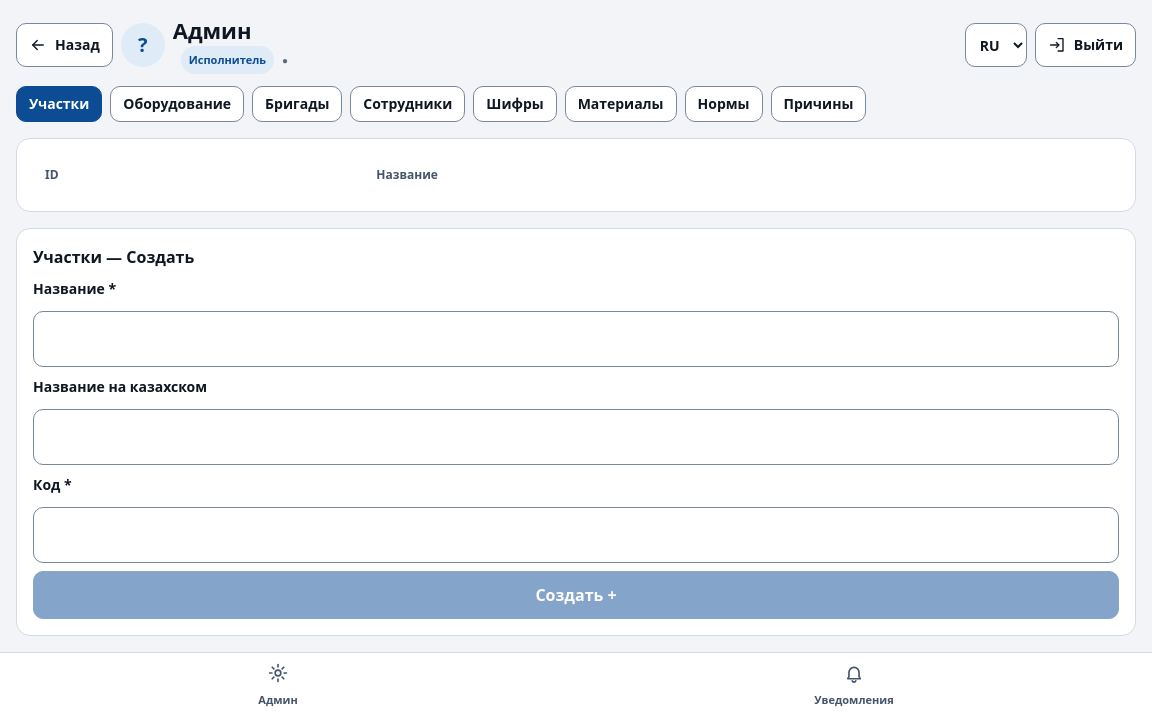
AdminPage edit modal › opens with current values
Expected: the button "Участки" is shown, [16,86,102,122]
Click the button "Сотрудники" at (408, 104), box [350,86,465,122]
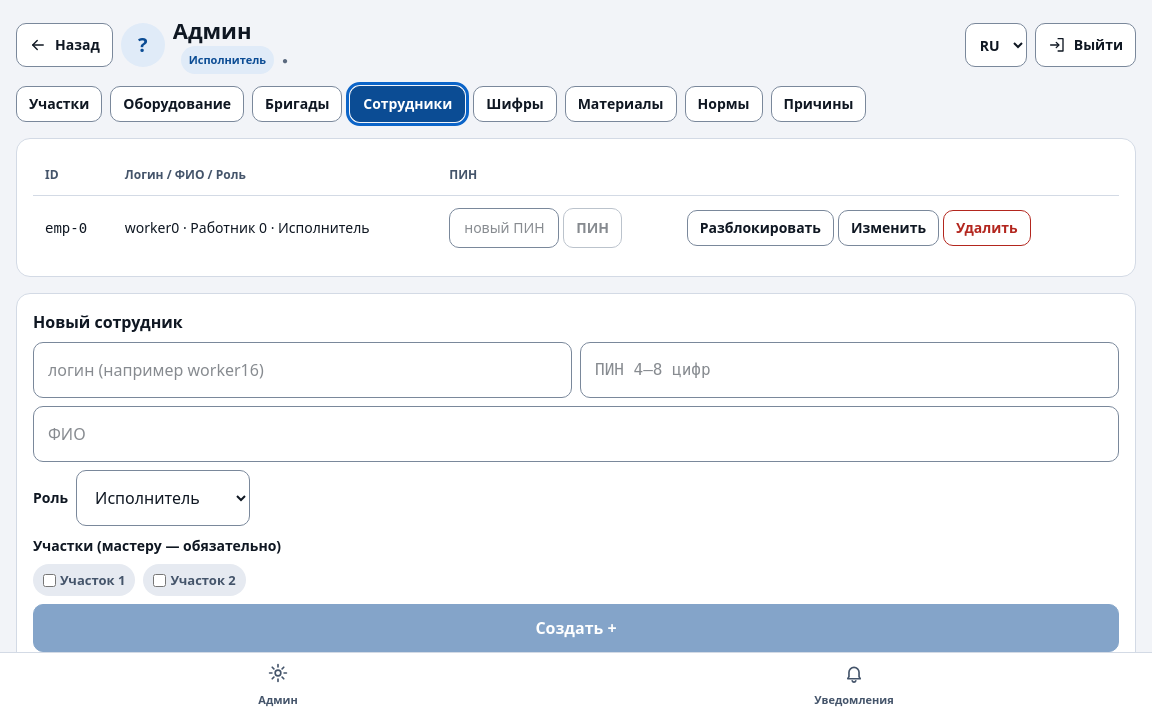
Now the text "worker0 · Работник 0 · Исполнитель" is shown, box [113,196,437,260]
Click the button "Изменить" at (889, 228), box [838,210,939,246]
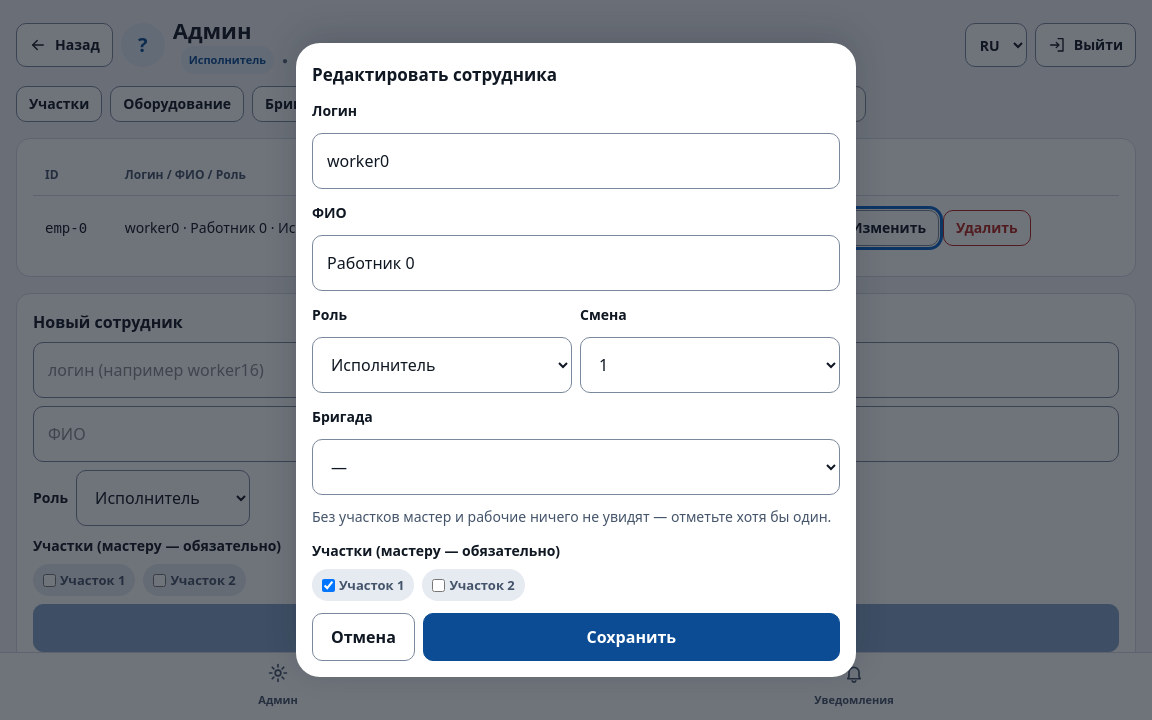
Now the field labelled "Логин" holds "worker0", box [312,133,840,189]
Now the field labelled "ФИО" holds "Работник 0", box [312,235,840,291]
